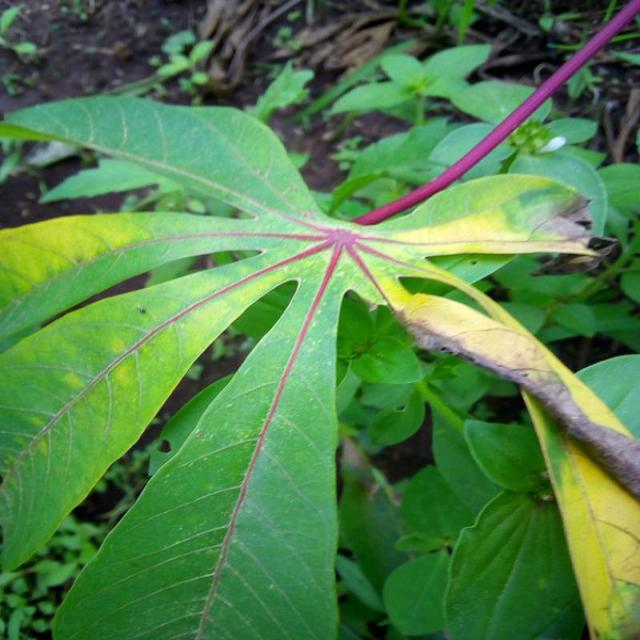cassava leaf: (1, 79, 638, 638)
